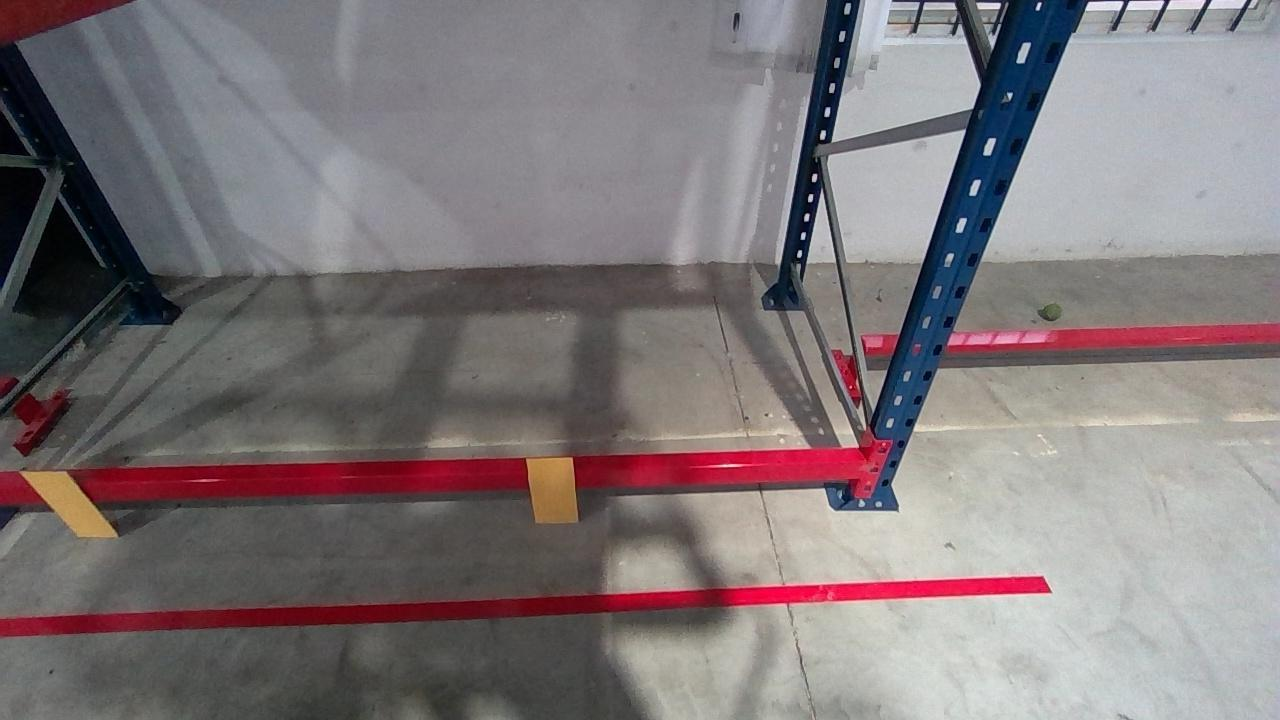h_rack: (3, 457, 869, 500)
orange_strip: (17, 471, 123, 536), (524, 457, 577, 523)
red_line: (2, 577, 1047, 640)
